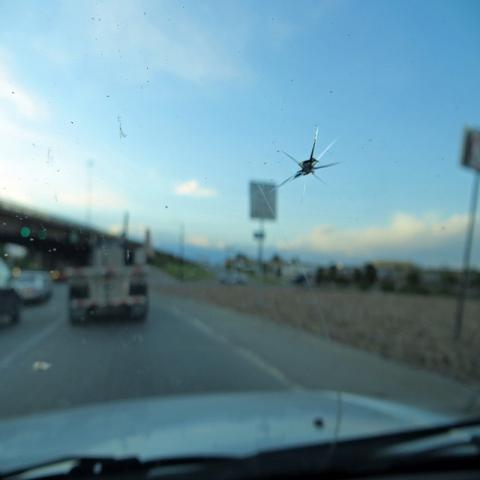car: (0, 384, 479, 479), (0, 254, 25, 328), (11, 270, 55, 301), (218, 265, 249, 285)
truck: (70, 233, 150, 326)
